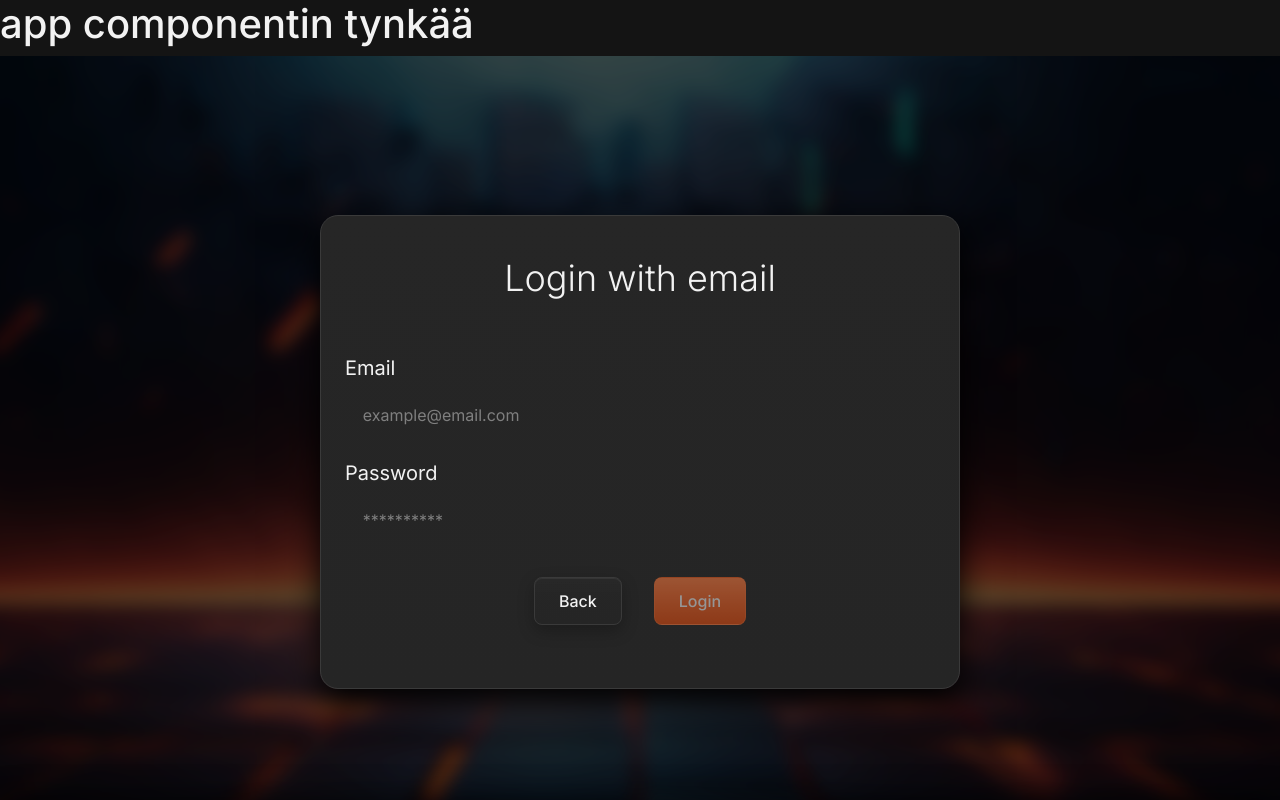
Scenario: Authentication & Dashboard › should login successfully with valid credentials and redirect to dashboard
Type "demo@mies.fi" into the field named "email". click: [640, 415]
box: [345,391,935,439]
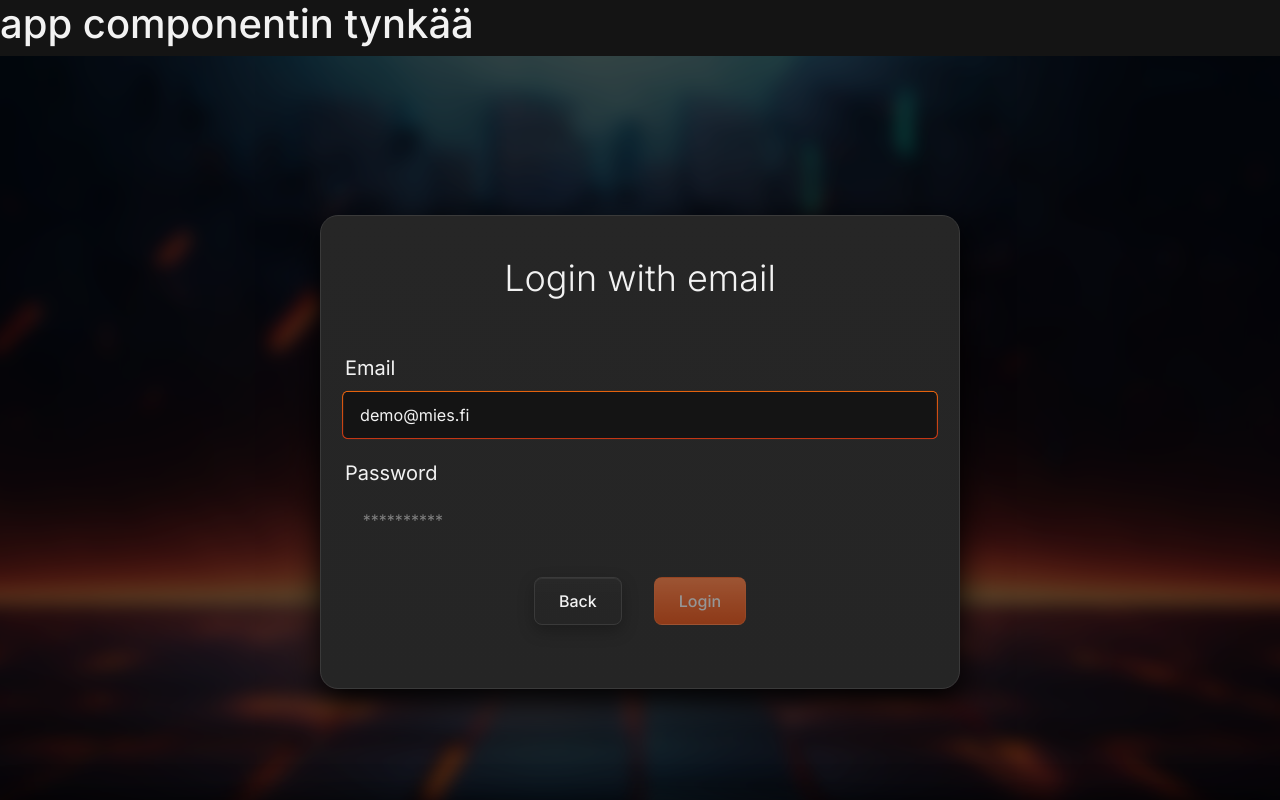
Type "Demo11" into the password field named "password". click: [640, 520]
box: [345,496,935,544]
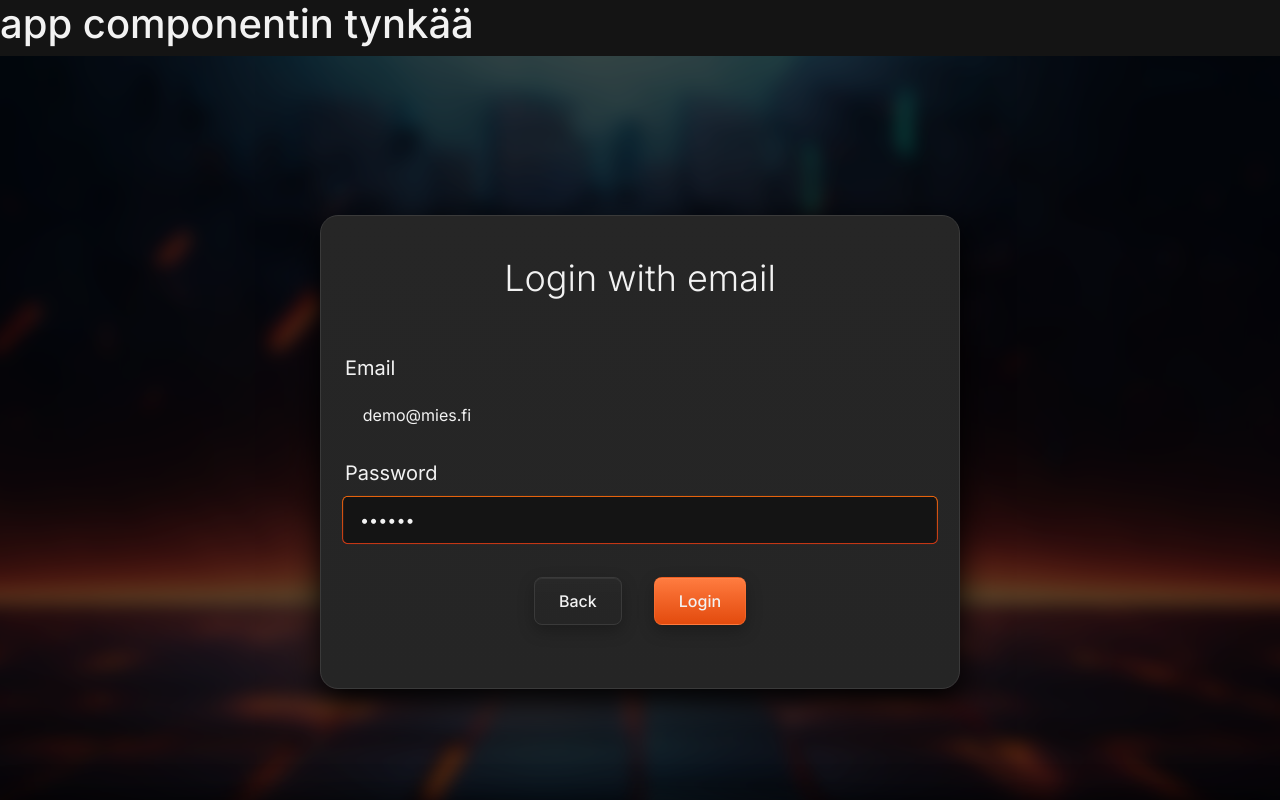
Submit the form, box [345,334,935,625]
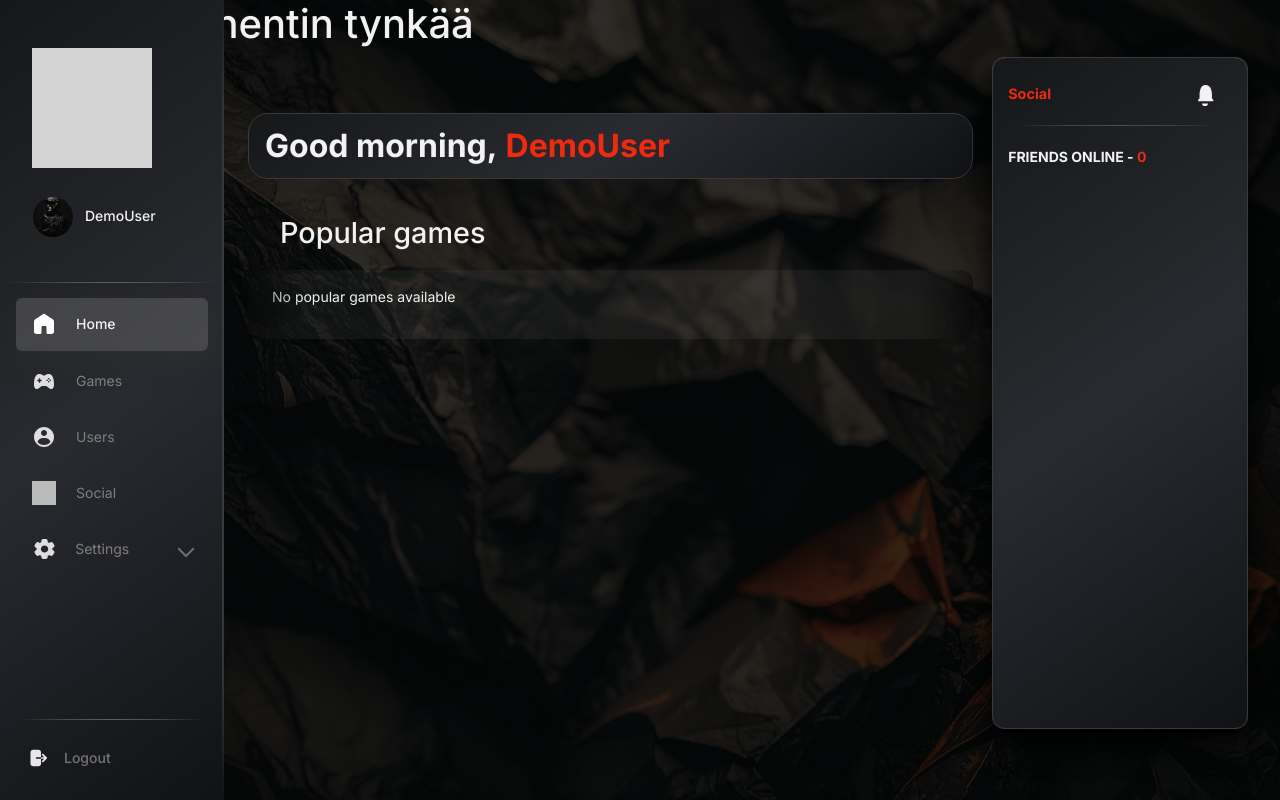
Expected: the element with class "dashboard" is shown, [248,113,973,339]
